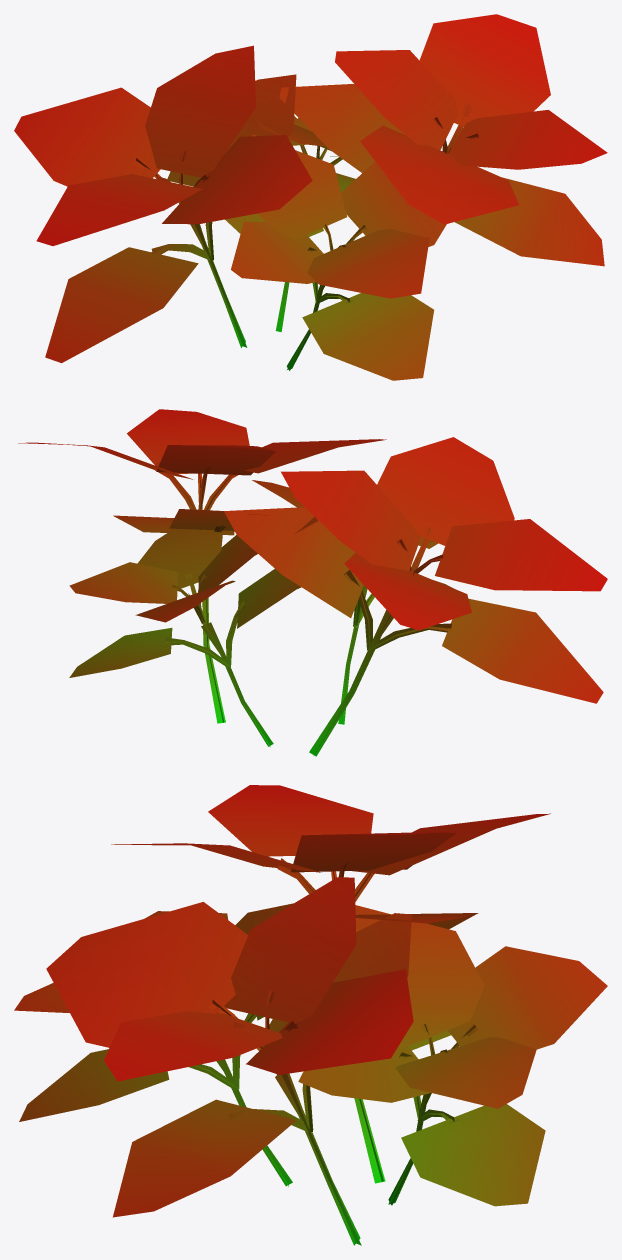
Rendered from Yellow Archangel_LOD2_Var10_wcwmcfvia.fbx.
3 views of the same model, one above another, from view 1: azimuth 30°, elevation 25°; view 2: azimuth 150°, elevation 25°; view 3: azimuth 270°, elevation 25° (orthographic). The views are drawn at different scales.
Visible parts, largest first — view 1: _iewg_Var10_LOD2; view 2: _iewg_Var10_LOD2; view 3: _iewg_Var10_LOD2.
Boxes of the visible parts, <box> form: _iewg_Var10_LOD2: <box>14,14,607,380</box>; _iewg_Var10_LOD2: <box>18,409,607,756</box>; _iewg_Var10_LOD2: <box>14,785,607,1245</box>.
Size of the model in its own units: 9.02 by 4.57 by 6.79.
